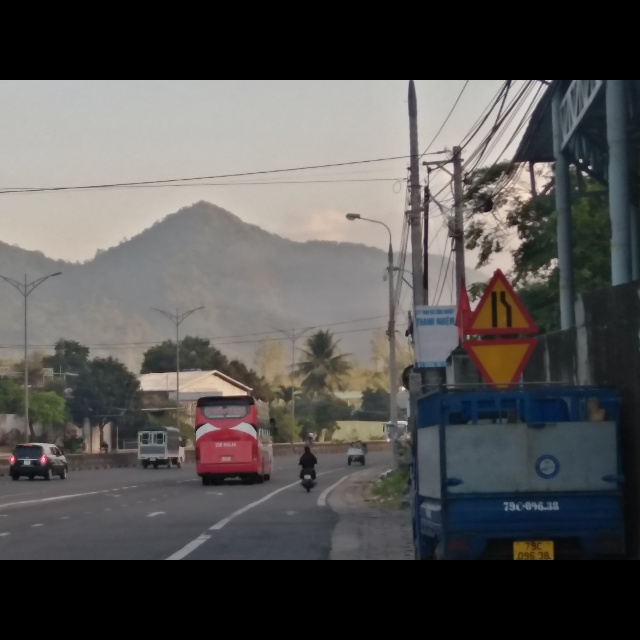Giao nhau với đường ưu tiên: (462, 339, 537, 389)
Đường bị hẹp bên phải: (463, 270, 538, 339)
